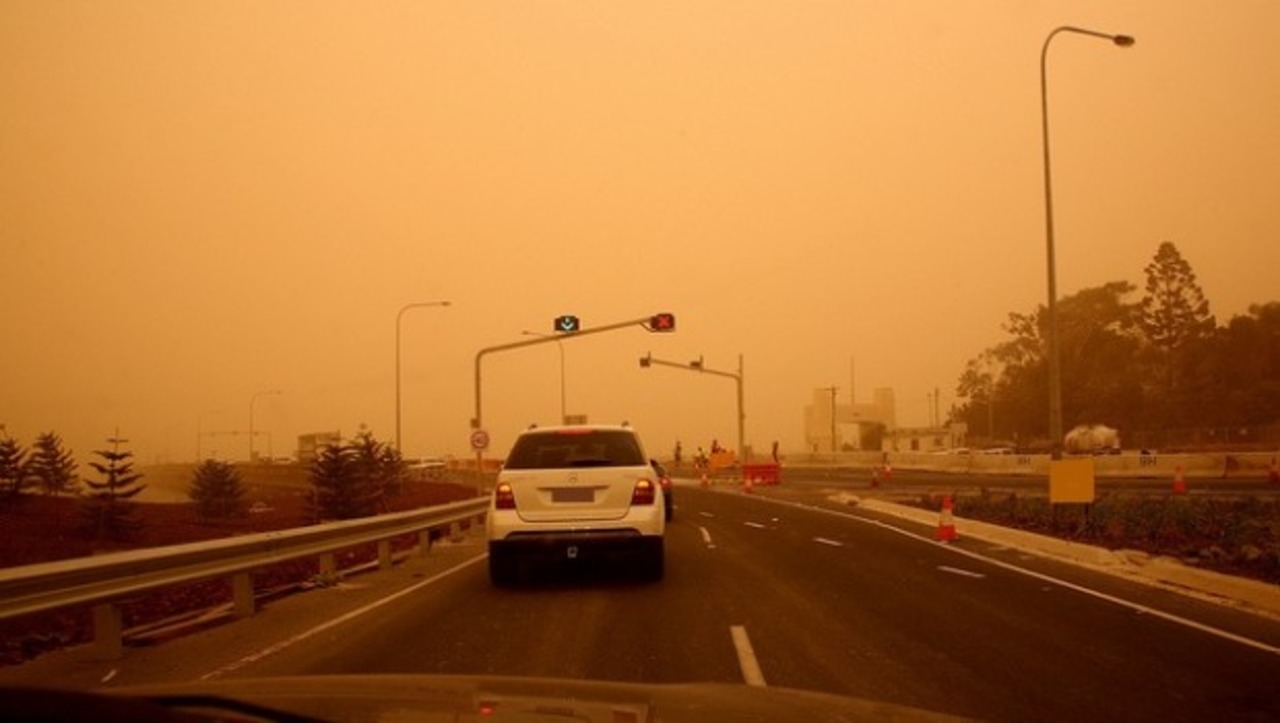car: (485, 425, 671, 586)
